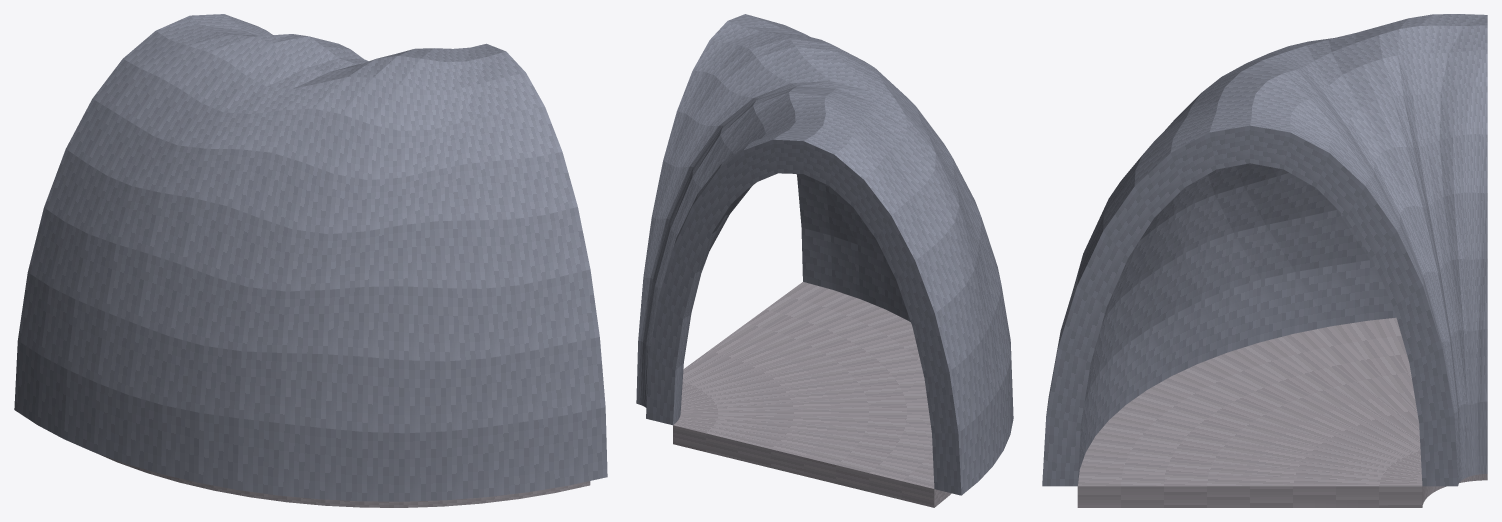
The model's file is cave-and-crystal-networks-tunnel-bend-right-57fa3812.glb.
The picture shows the model from 3 angles, left to right: view 1: azimuth 30°, elevation 25°; view 2: azimuth 150°, elevation 25°; view 3: azimuth 270°, elevation 25°; orthographic projection. The views are drawn at different scales.
Parts seen in each view (by area): view 1: tunnel-bend-right; view 2: tunnel-bend-right; view 3: tunnel-bend-right.
Boxes of the visible parts, x1,y1,x2,y2 form: tunnel-bend-right: (14,14,607,507); tunnel-bend-right: (636,14,1013,507); tunnel-bend-right: (1042,14,1487,507).
Bounding box in the file's own units: 3.75 × 3.61 × 3.75.
2 materials, 2 textured.
